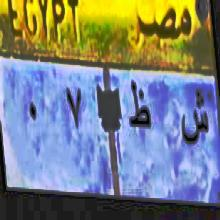0: (27, 94, 39, 129)
7: (64, 80, 83, 137)
Thaa: (126, 79, 156, 141)
sheen: (180, 87, 210, 153)
